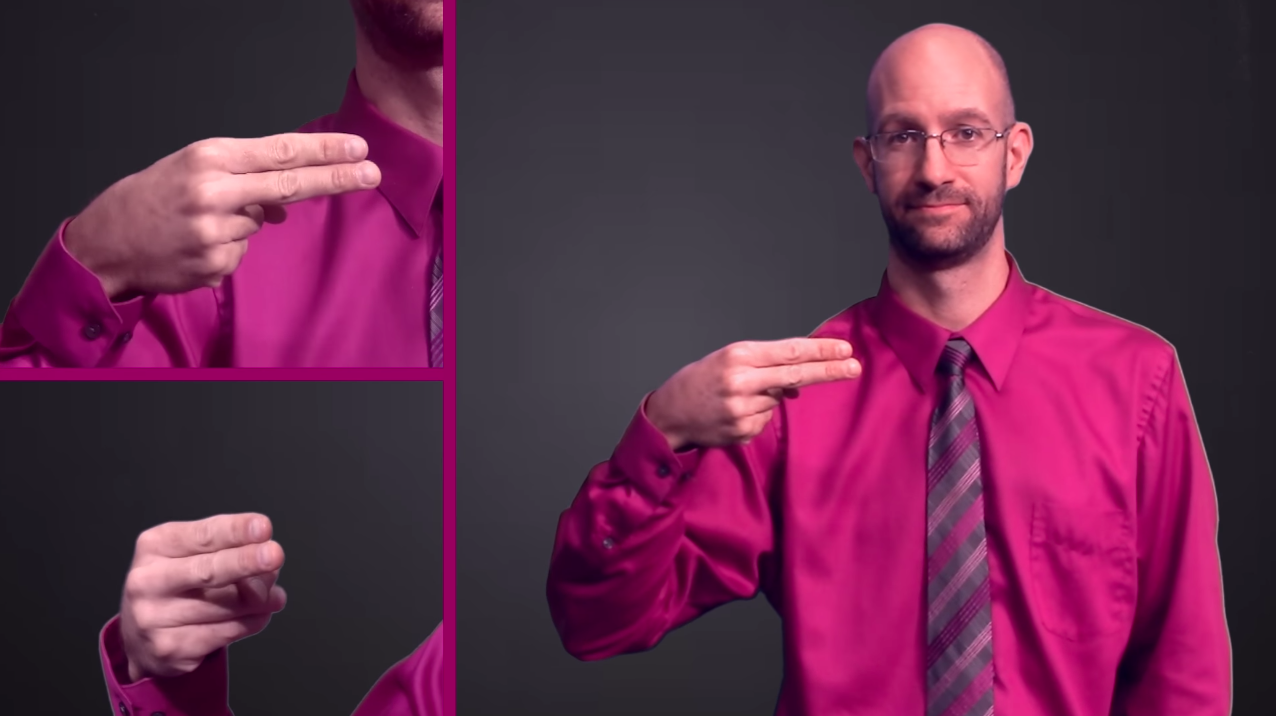h: (45, 118, 394, 302), (611, 320, 872, 462), (110, 500, 302, 682)
